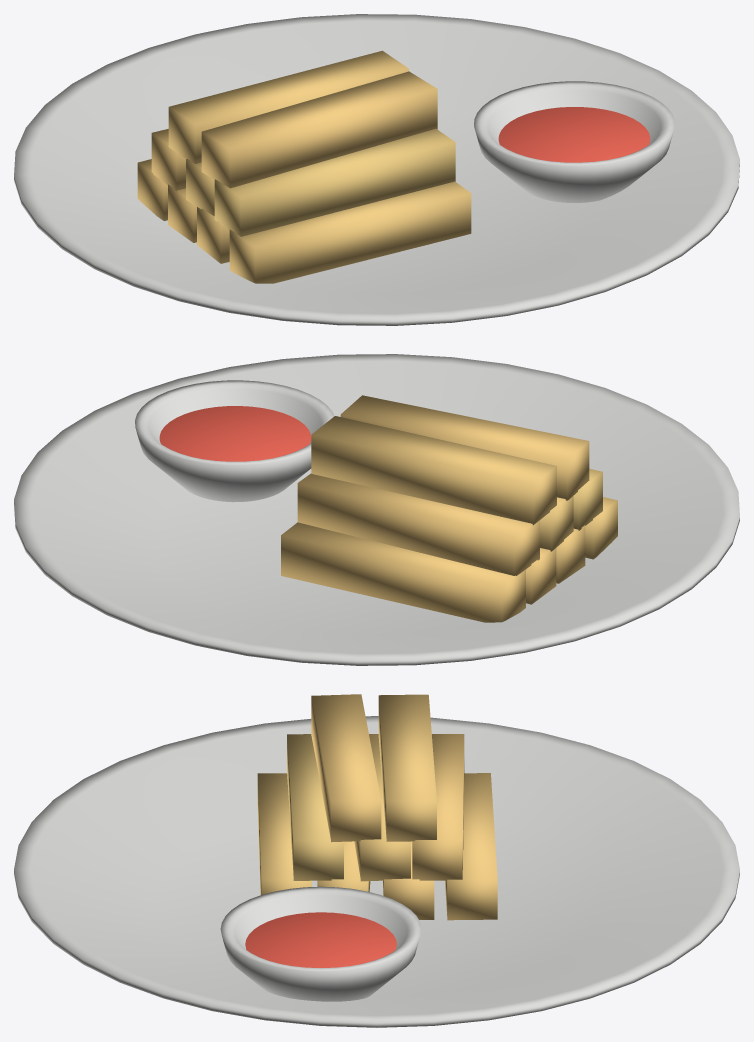
File: cheesesticks.glb
3 renders of one model, top to bottom at view 1: azimuth 30°, elevation 25°; view 2: azimuth 150°, elevation 25°; view 3: azimuth 270°, elevation 25°, orthographic.
Visible parts, largest first — view 1: part0, part9, part4, part7, part8, part10, part5, part3, part1, part2, part6; view 2: part0, part8, part1, part5, part9, part10, part4, part6, part7, part2, part3; view 3: part0, part9, part8, part10, part7, part1, part5, part4, part6, part2, part3.
Boxes of the visible parts, bbox=[...] form: part0: bbox=[14, 14, 739, 325]; part9: bbox=[201, 71, 437, 188]; part4: bbox=[229, 181, 471, 283]; part7: bbox=[214, 128, 455, 236]; part8: bbox=[168, 50, 408, 163]; part10: bbox=[498, 107, 650, 162]; part5: bbox=[151, 129, 185, 191]; part3: bbox=[197, 207, 229, 263]; part1: bbox=[137, 159, 167, 220]; part2: bbox=[168, 184, 196, 242]; part6: bbox=[186, 159, 214, 215]; part0: bbox=[14, 354, 739, 665]; part8: bbox=[311, 416, 556, 525]; part1: bbox=[281, 522, 525, 622]; part5: bbox=[297, 473, 539, 575]; part9: bbox=[340, 395, 589, 500]; part10: bbox=[159, 406, 311, 461]; part4: bbox=[585, 497, 617, 559]; part6: bbox=[540, 496, 573, 551]; part7: bbox=[573, 468, 602, 530]; part2: bbox=[526, 548, 556, 604]; part3: bbox=[556, 525, 585, 583]; part0: bbox=[14, 716, 739, 1027]; part9: bbox=[311, 694, 381, 842]; part8: bbox=[378, 694, 436, 841]; part10: bbox=[245, 912, 396, 967]; part7: bbox=[287, 734, 343, 880]; part1: bbox=[445, 773, 497, 920]; part5: bbox=[412, 734, 464, 880]; part4: bbox=[257, 773, 311, 894]; part6: bbox=[354, 734, 410, 881]; part2: bbox=[383, 841, 434, 919]; part3: bbox=[317, 841, 370, 891].
Bounding box in the file's own units: 0.26 × 0.054 × 0.26.
